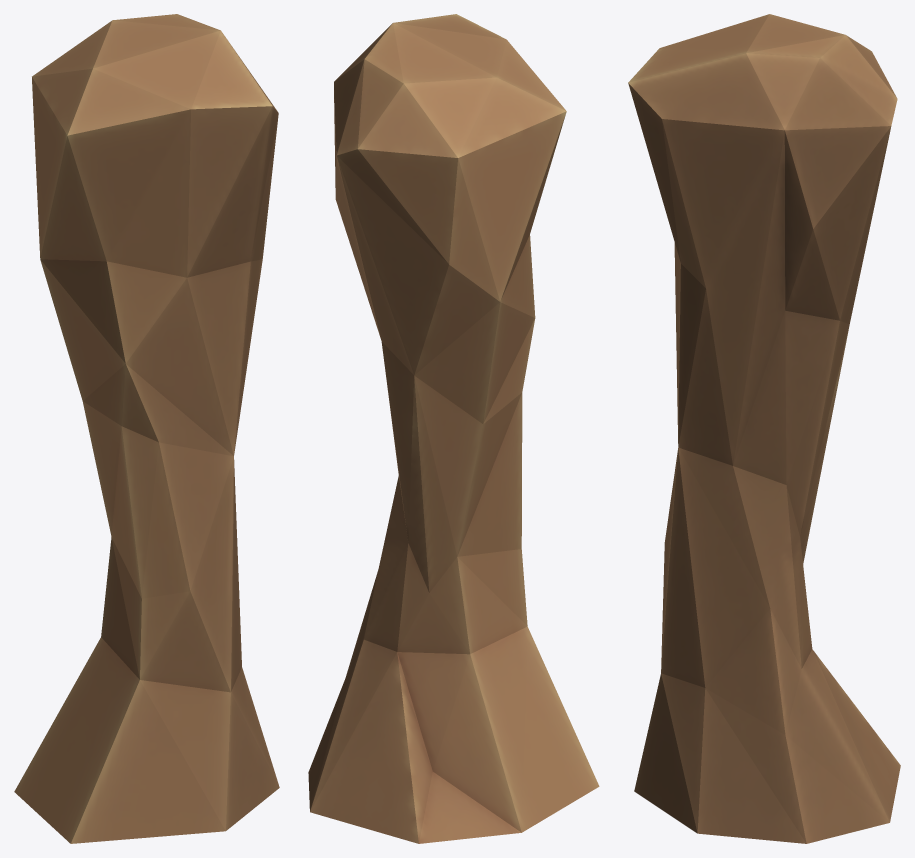
The model's file is Mountain rock_5.fbx.
3 views of the same model, side by side, from view 1: azimuth 30°, elevation 25°; view 2: azimuth 150°, elevation 25°; view 3: azimuth 270°, elevation 25° (orthographic). The views are drawn at different scales.
Visible parts, largest first — view 1: Mountain rock_5; view 2: Mountain rock_5; view 3: Mountain rock_5.
Boxes of the visible parts, x1,y1,x2,y2 form: Mountain rock_5: (14,14,279,843); Mountain rock_5: (308,14,599,843); Mountain rock_5: (628,14,900,843).
Bounding box in the file's own units: 113 × 343 × 111.
